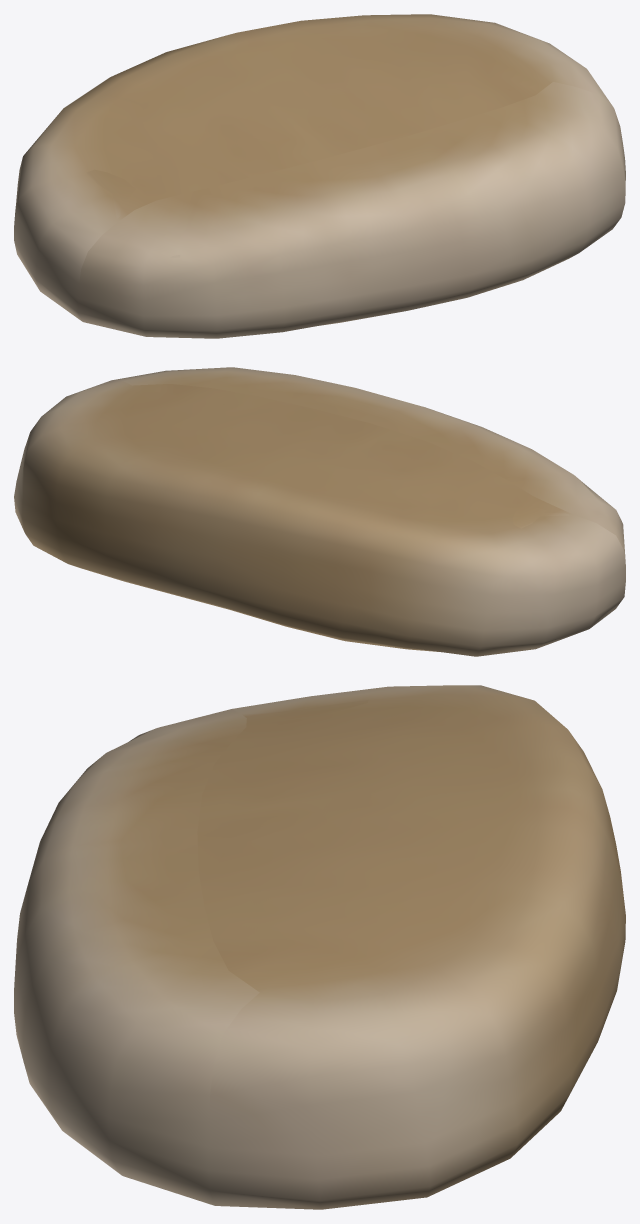
Rendered from L tarsi tertium.fbx.
3 renders of one model, top to bottom at view 1: azimuth 30°, elevation 25°; view 2: azimuth 150°, elevation 25°; view 3: azimuth 270°, elevation 25°, orthographic. The views are drawn at different scales.
Visible parts, largest first — view 1: L tarsi tertium, L tarsi tertium low; view 2: L tarsi tertium, L tarsi tertium low; view 3: L tarsi tertium, L tarsi tertium low.
Part boxes in pixels (left/top/right/bottom): L tarsi tertium: left=14, top=14, right=625, bottom=338; L tarsi tertium low: left=86, top=169, right=180, bottom=257; L tarsi tertium: left=14, top=367, right=625, bottom=656; L tarsi tertium low: left=378, top=491, right=594, bottom=636; L tarsi tertium: left=14, top=685, right=625, bottom=1209; L tarsi tertium low: left=249, top=699, right=368, bottom=719.
Bounding box in the file's own units: 6.25 × 1.59 × 3.95.
